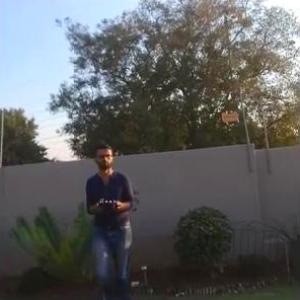follow: (81, 140, 144, 299)
